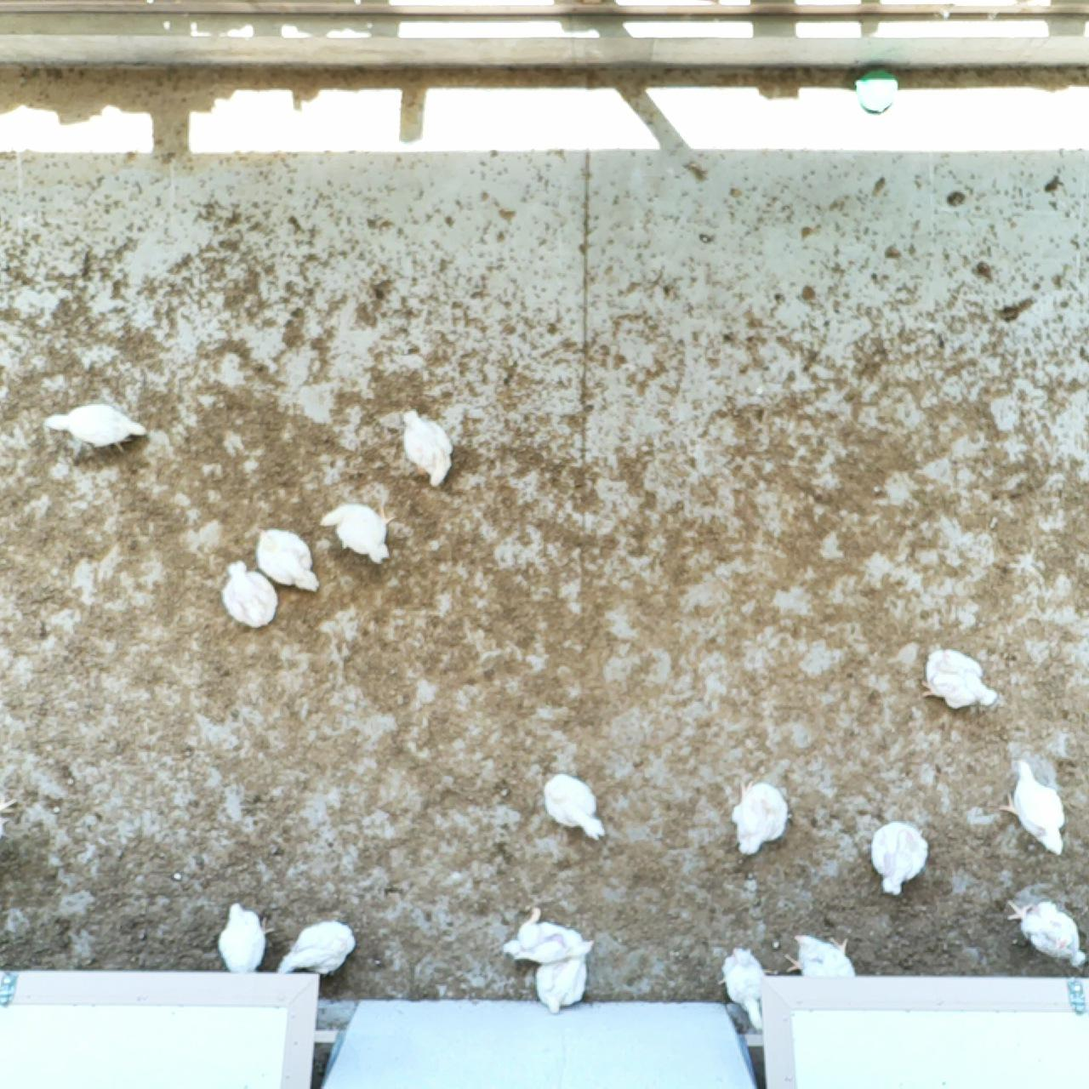chicken: (996, 757, 1072, 857), (42, 399, 151, 461), (1004, 894, 1089, 970), (500, 905, 598, 966), (716, 943, 781, 1034), (918, 644, 1002, 713), (316, 502, 401, 567), (865, 818, 932, 898), (728, 777, 794, 857), (254, 524, 324, 597), (399, 404, 457, 492), (277, 917, 359, 977), (215, 899, 279, 975), (542, 771, 608, 842), (219, 557, 282, 631), (782, 927, 861, 982), (535, 950, 592, 1015)
